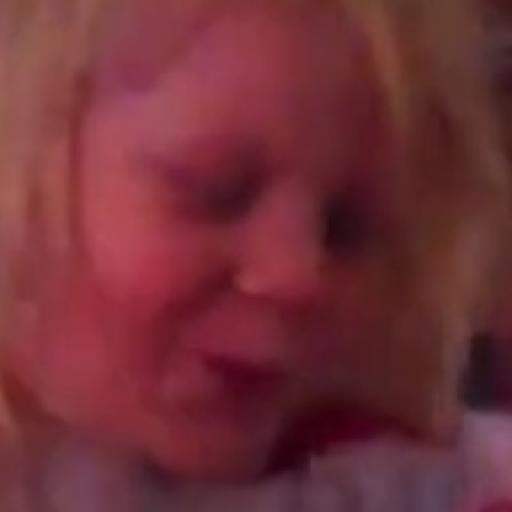Autism: (35, 11, 444, 466)
